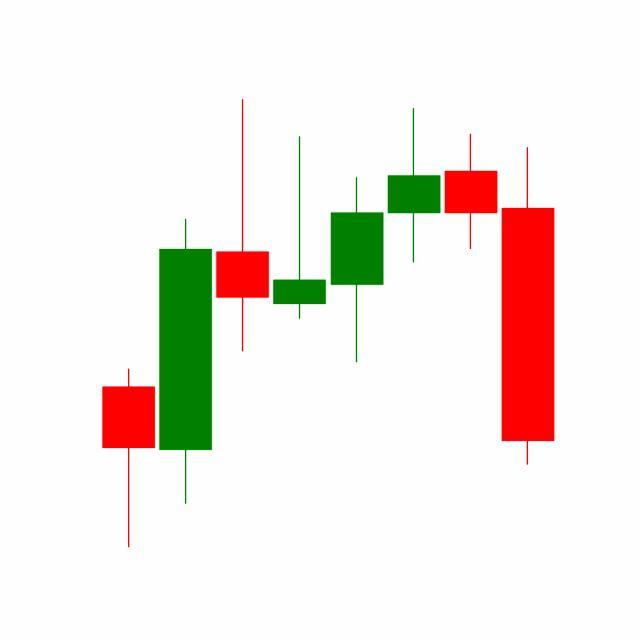Hikkake Pattern: (270, 105, 555, 470)
